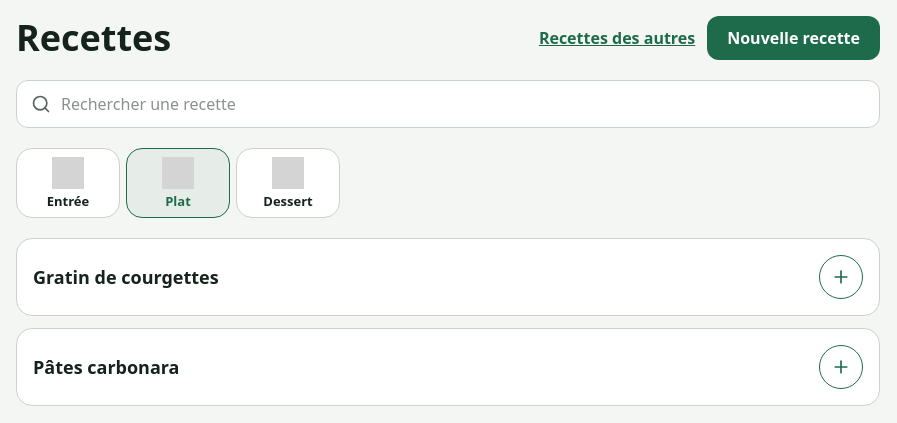
Test: RecipesView › filtre par nom sans tenir compte de la casse
Type "GRATIN" into the search field with placeholder "Rechercher une recette" at (463, 104), box [61,92,865,116]
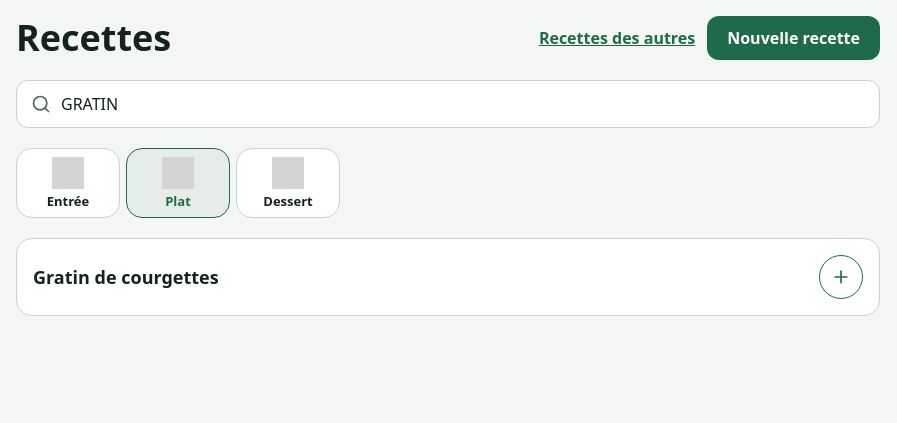
expect the text "Gratin de courgettes" is shown: met, box [33,265,219,289]
expect the text "Pâtes carbonara" is gone: met
Replace the text in the search field with "zzz" at (463, 104), box [61,92,865,116]
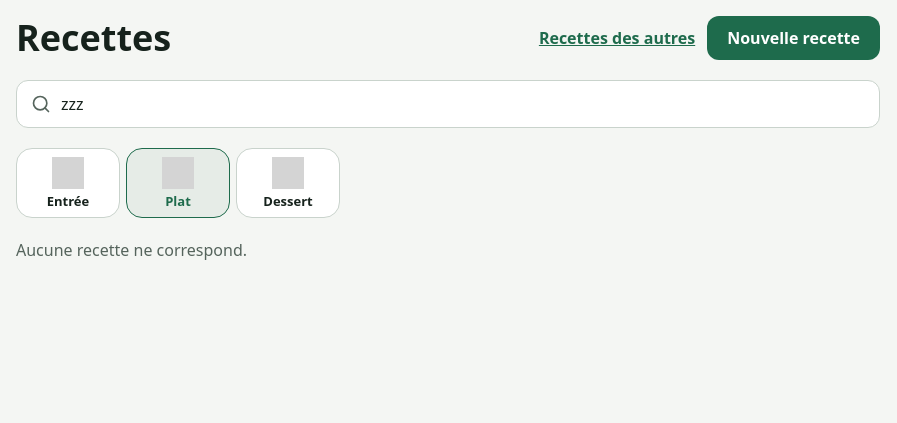
expect the text "Aucune recette ne correspond." is shown: met, box [16,239,247,261]
